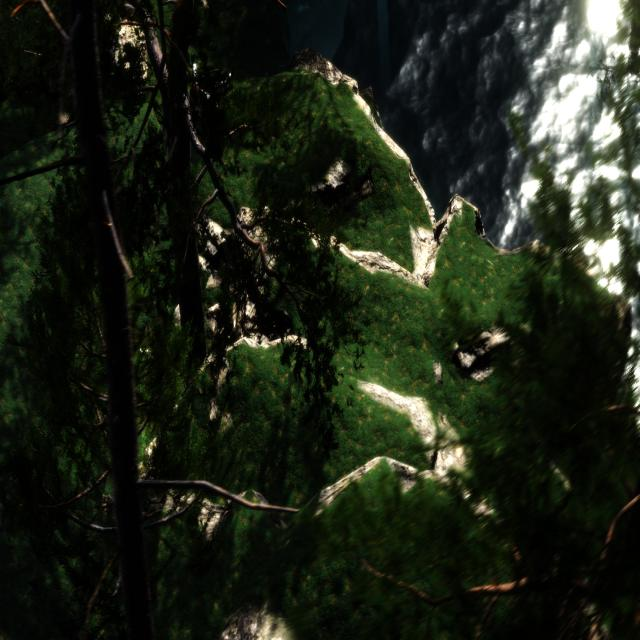Human: (187, 53, 235, 117)
